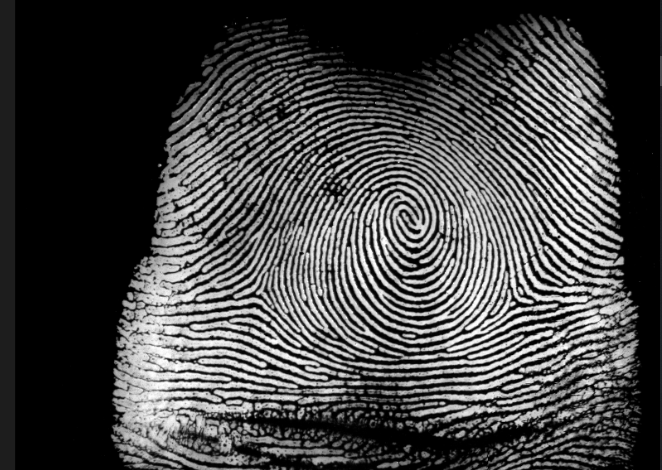deltas: (229, 262, 286, 329), (485, 271, 545, 326)
nucleo: (376, 187, 446, 255)
